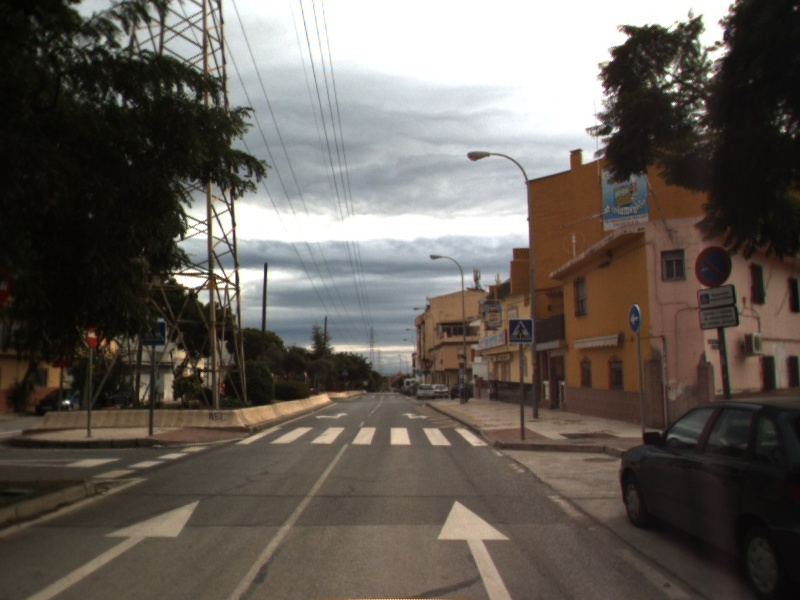STRAIGHT: (20, 497, 203, 600), (434, 497, 517, 600)
STRAIGHT_LEFT: (313, 409, 350, 421)
STRAIGHT_RIGHT: (400, 410, 431, 421)
